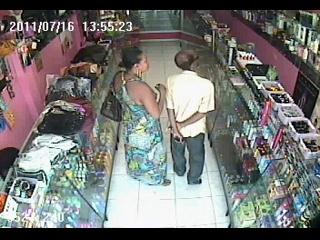Normal: (112, 47, 172, 186), (166, 50, 216, 186)
